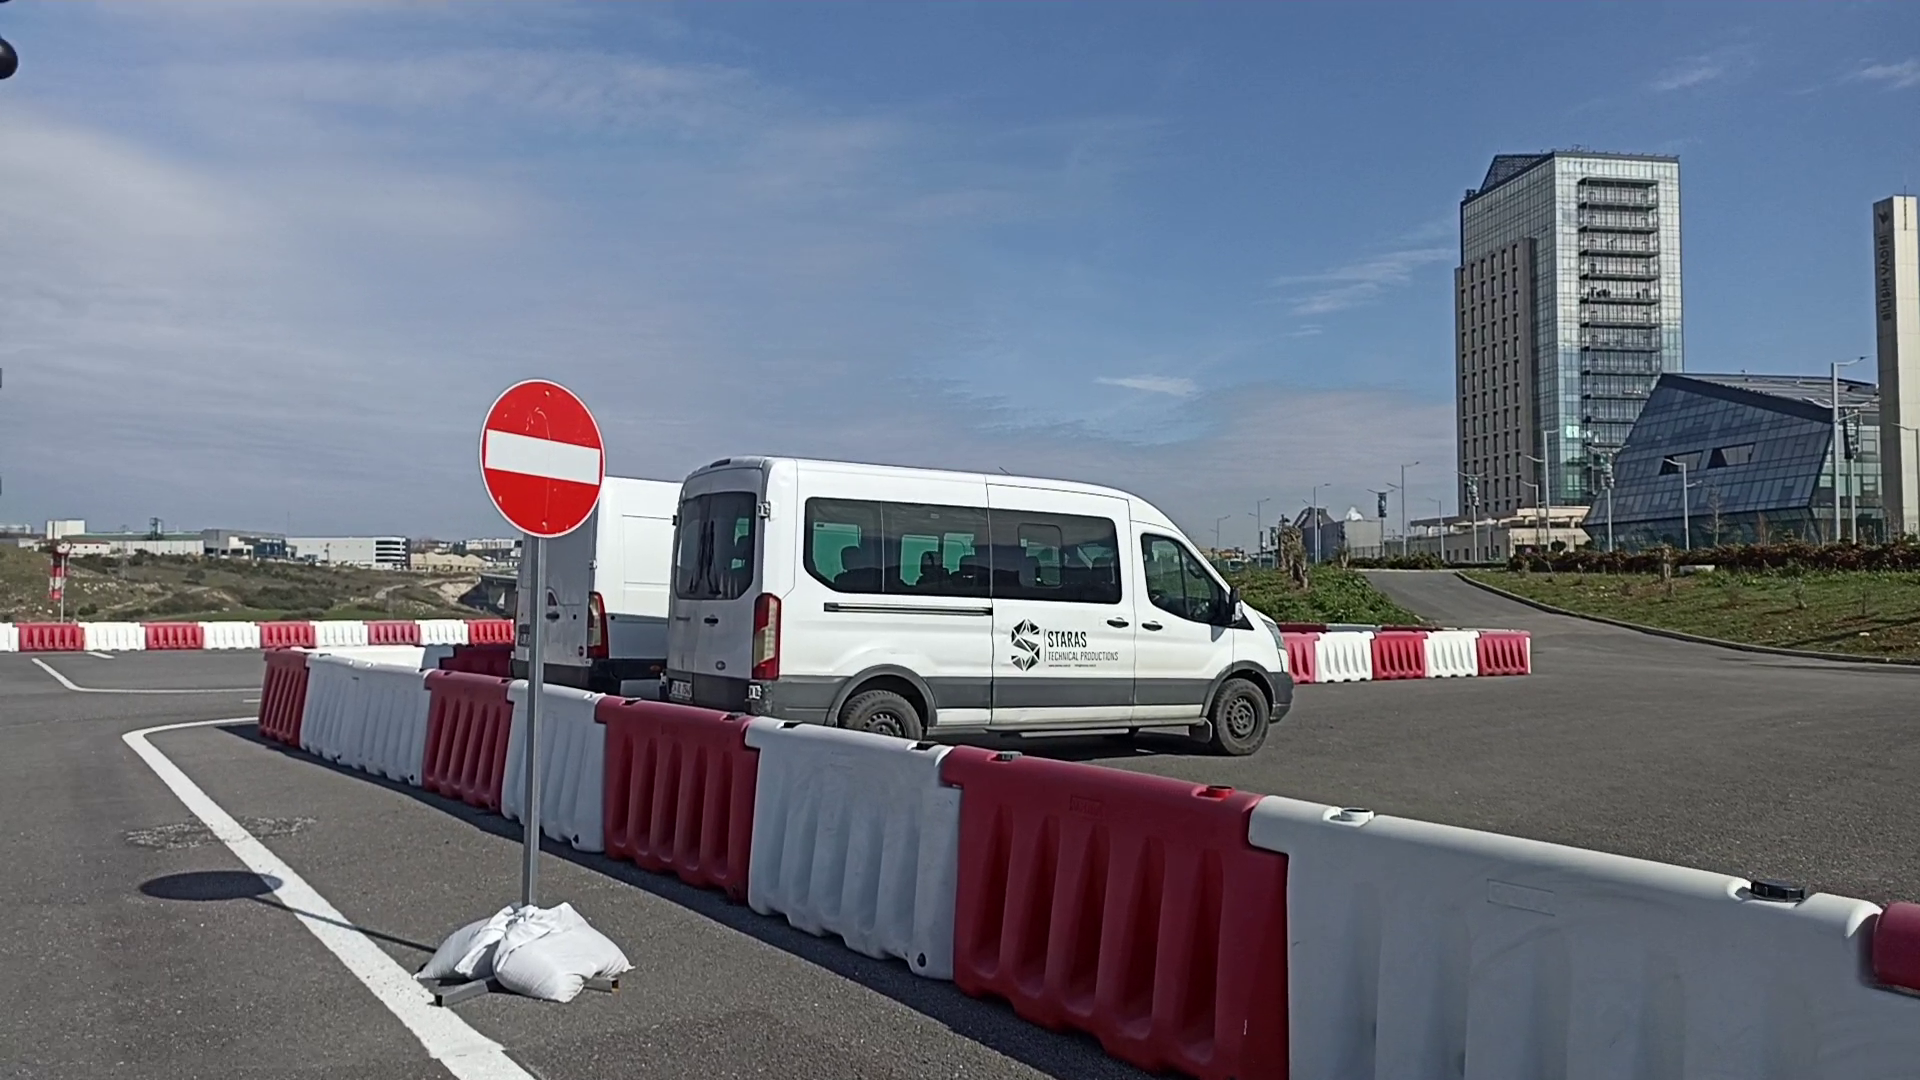noentryway: (477, 377, 611, 541)
